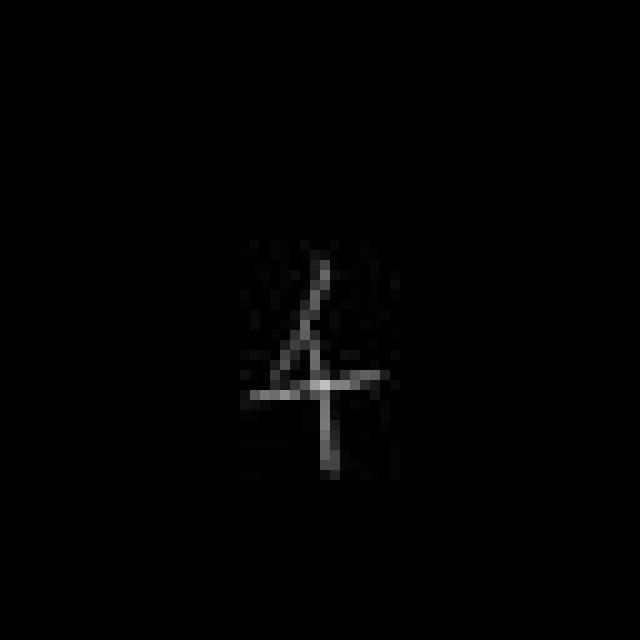1000 -a thousand-: (235, 249, 398, 494)
